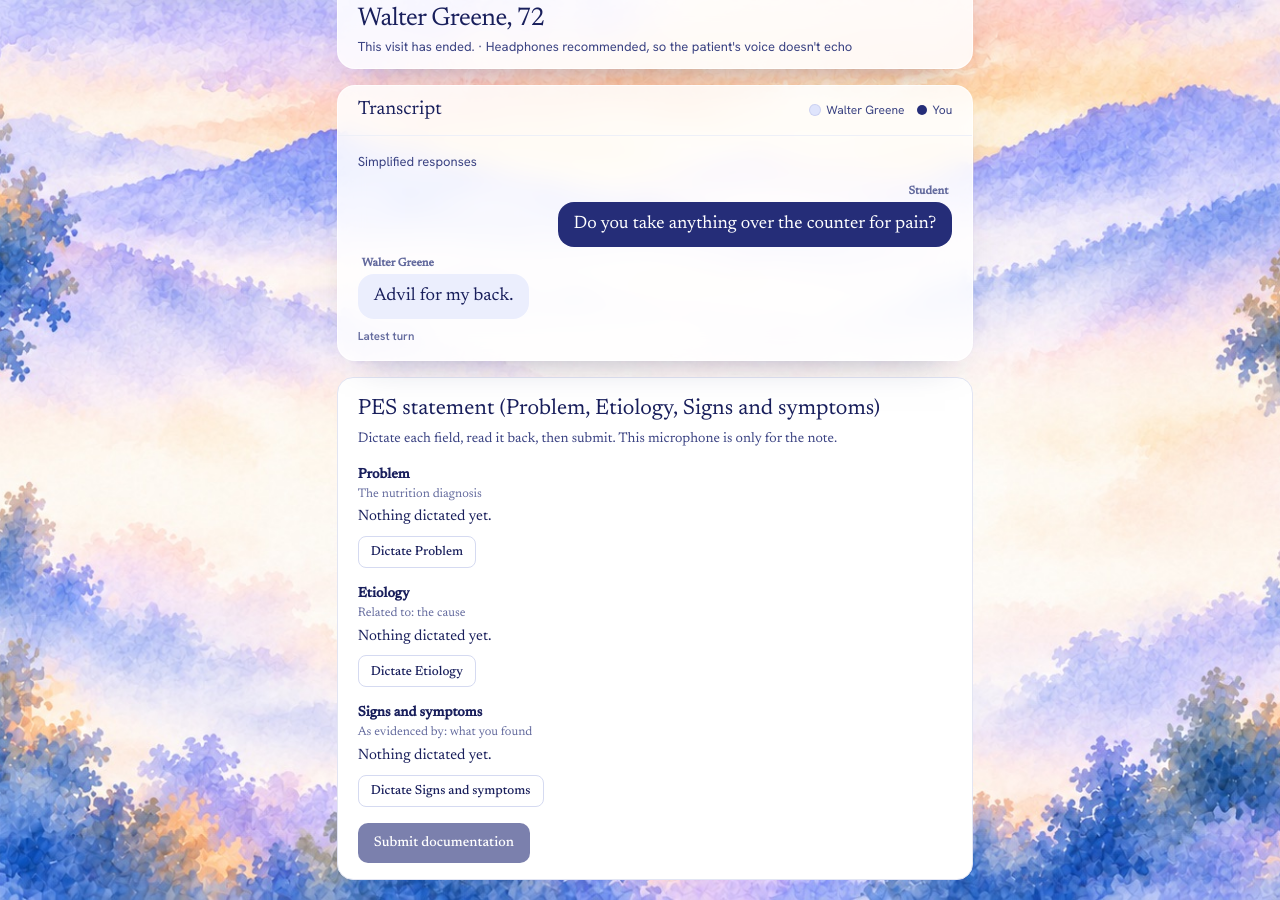
missing voice configuration stays visible and does not look finished
The image size is (1280, 900).
(page scrolled)
What coordinates should you click on to do the following:
click the button "Dictate Problem"
I would click on:
 (417, 552)
Its box is left=358, top=536, right=476, bottom=568.
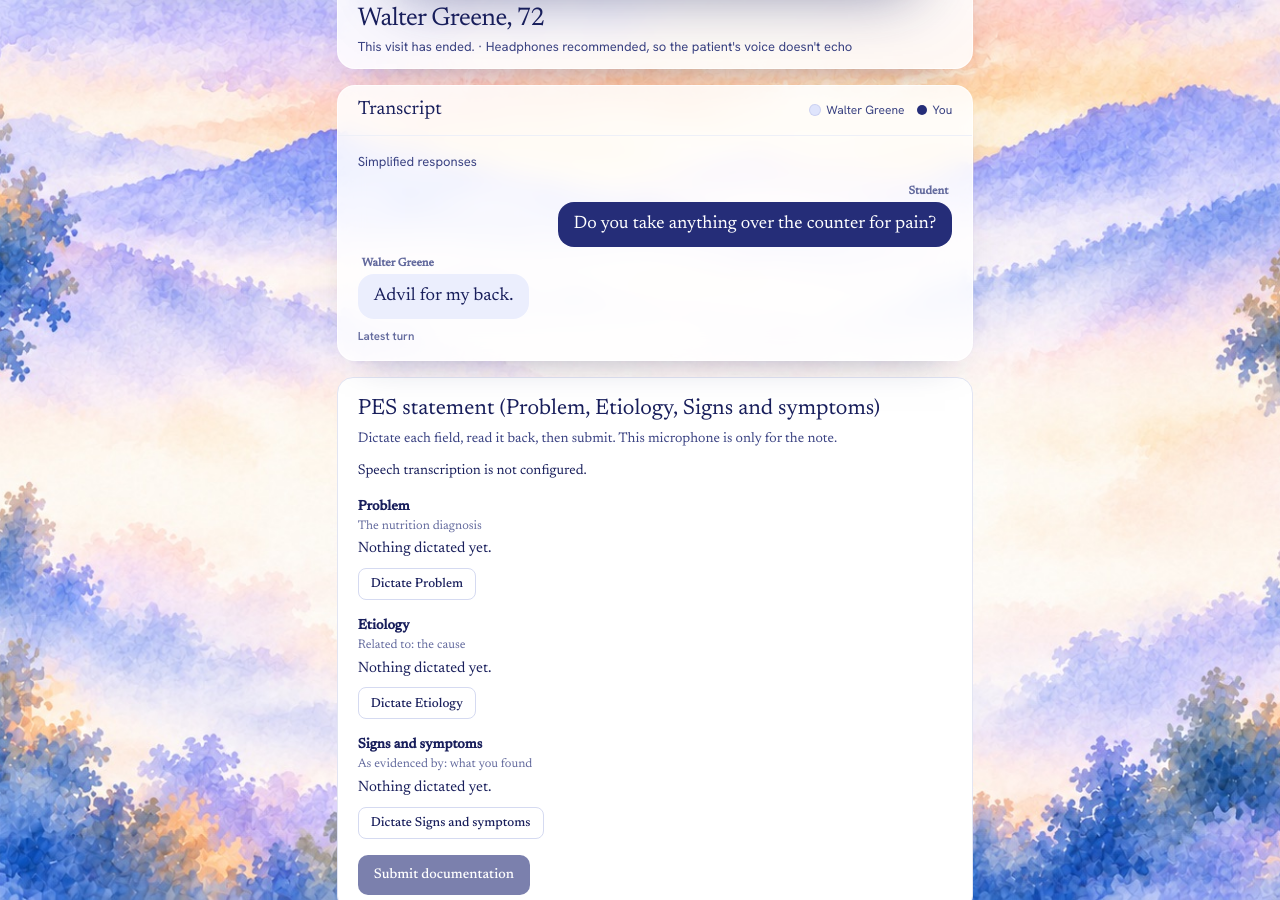
Expected: the text "Speech transcription is not configured." is shown, left=358, top=464, right=587, bottom=478
